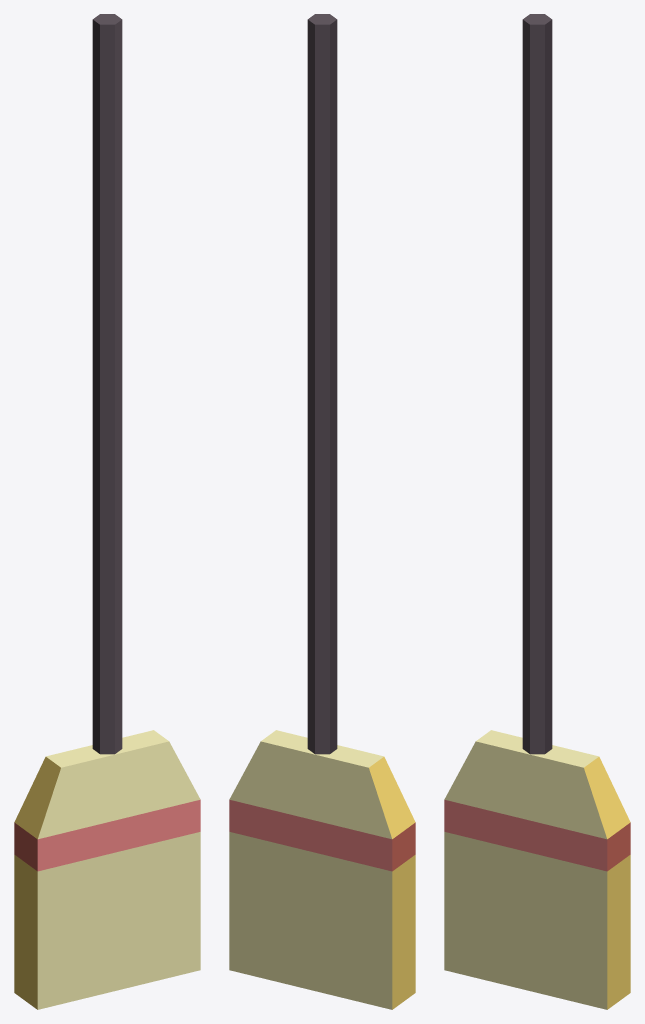
File: Broom.fbx
3 views of the same model, side by side, from view 1: azimuth 30°, elevation 25°; view 2: azimuth 150°, elevation 25°; view 3: azimuth 330°, elevation 25° (orthographic).
Visible parts, largest first — view 1: Broom; view 2: Broom; view 3: Broom.
Part boxes in pixels (left/top/right/bottom): Broom: left=14, top=14, right=200, bottom=1009; Broom: left=229, top=14, right=415, bottom=1009; Broom: left=444, top=14, right=630, bottom=1009.
Bounding box in the file's own units: 44.63 × 252 × 11.05.
